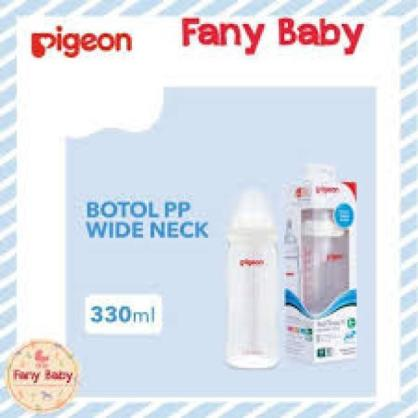bottle: (212, 189, 293, 384)
